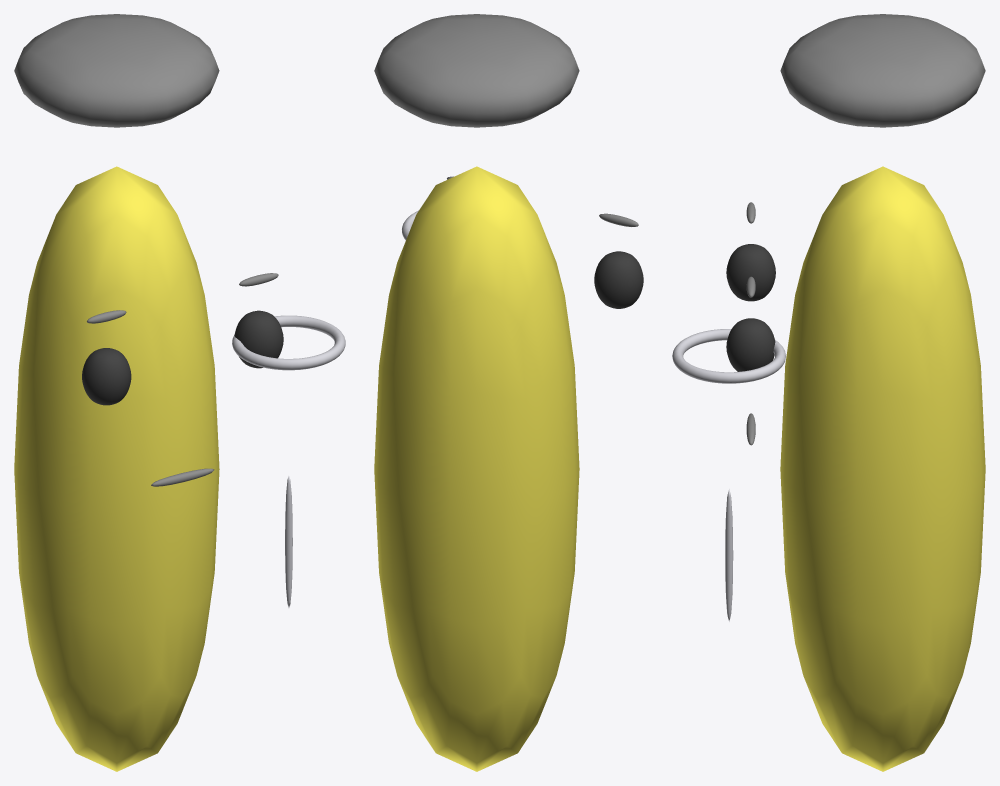
The model's file is npc_stubby.glb.
The picture shows the model from 3 angles, left to right: view 1: azimuth 30°, elevation 25°; view 2: azimuth 150°, elevation 25°; view 3: azimuth 270°, elevation 25°; orthographic projection.
Parts seen in each view (by area): view 1: npc_stubby; view 2: npc_stubby; view 3: npc_stubby.
Part boxes in pixels (box(x1,y1,x2,y2)): npc_stubby: box(14, 14, 345, 771); npc_stubby: box(374, 14, 643, 771); npc_stubby: box(672, 14, 985, 771).
Bounding box in the file's own units: 0.1271 × 0.3694 × 0.1426.
